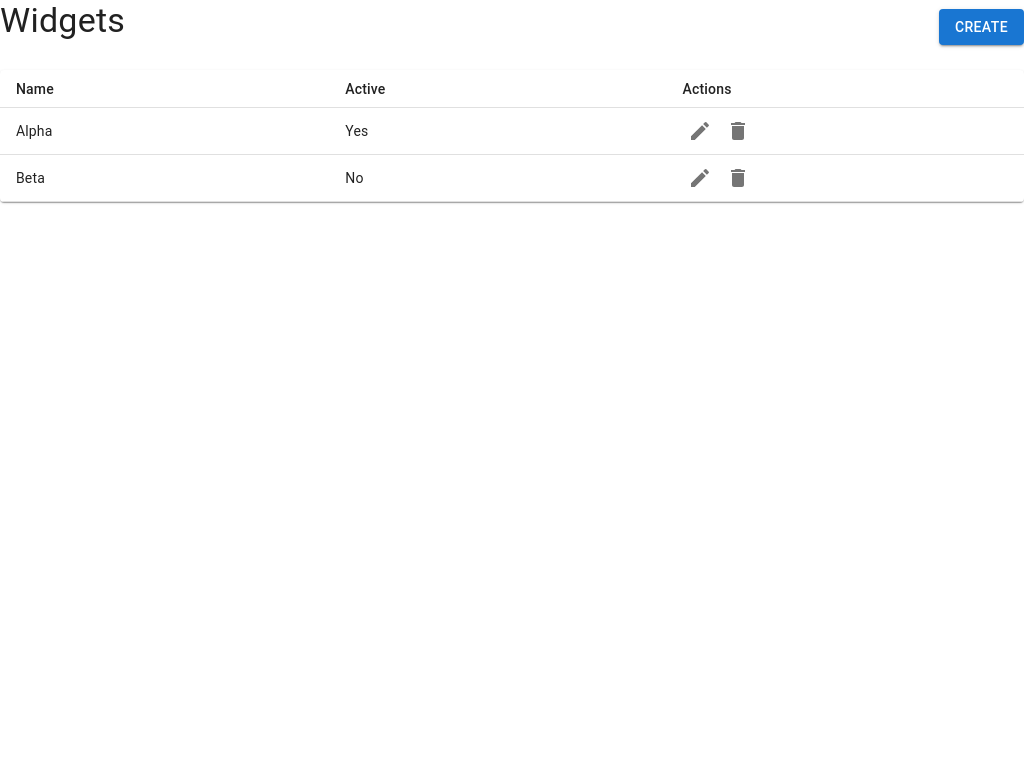
Test: CrudPage › keeps the dialog open and shows the error when create fails
Expected: the text "Alpha" is shown, [16, 123, 52, 139]
What coordinates should you click on to do the following:
click the button "Create"
I would click on:
 (981, 27)
Its box is [939, 9, 1023, 45].
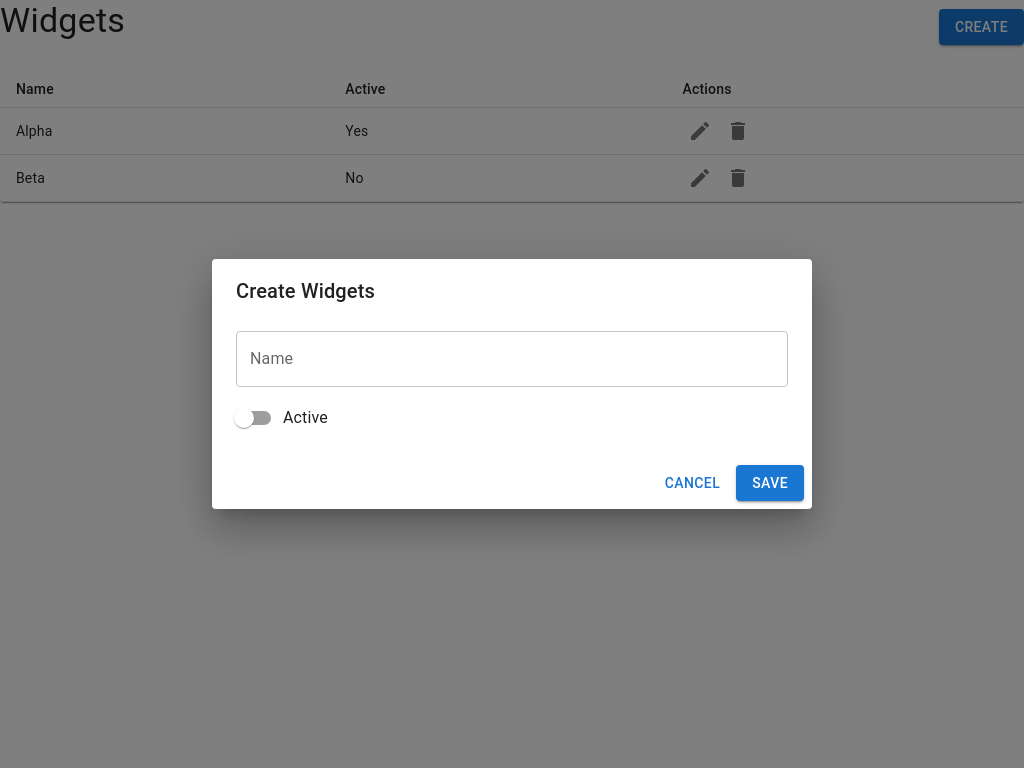
What coordinates should you click on to do the following:
click the button "Save"
I would click on:
 (770, 483)
Its box is [736, 465, 804, 501].
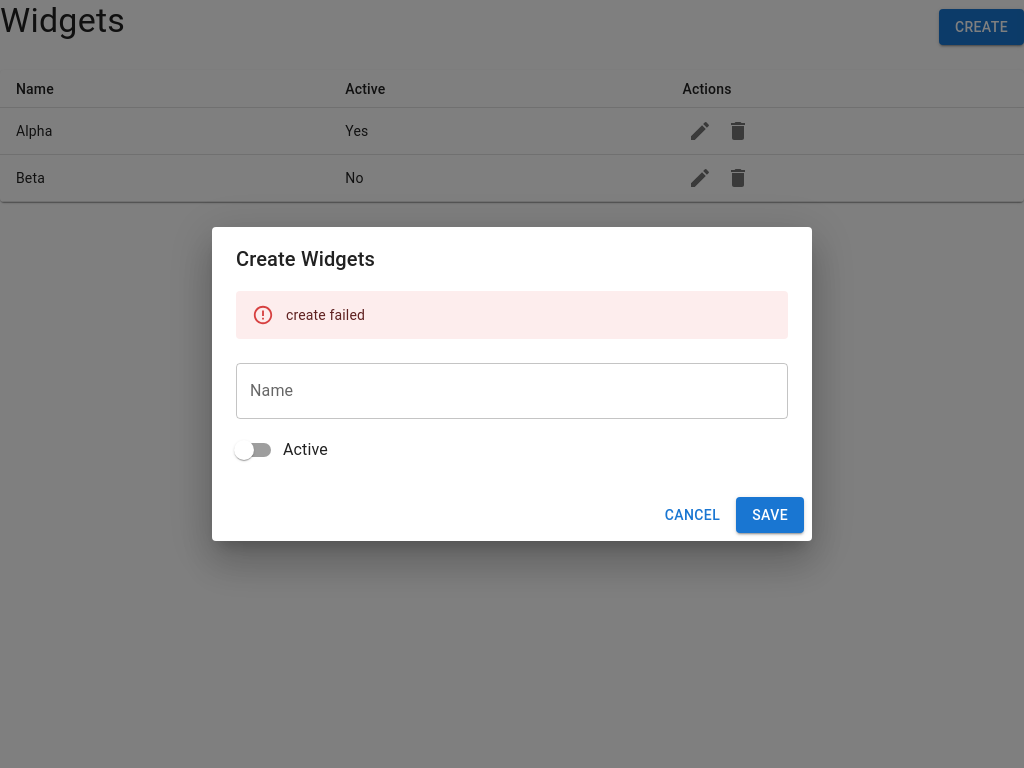
Now the message reads "create failed", box [286, 307, 365, 323]
